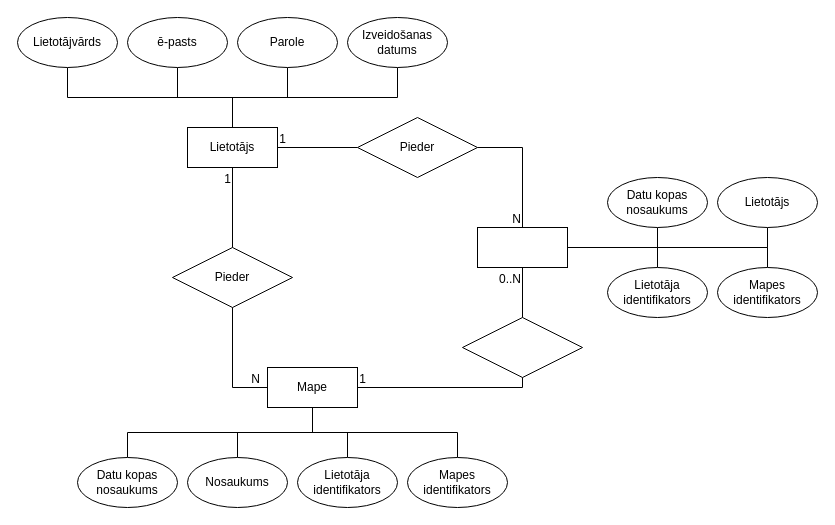
This 835x525 diagram has some shape labels left out. Each missing label, with the centre of its shape:
Atrodas: the point at 522,347
Pieslēgšanas dati: the point at 522,247
